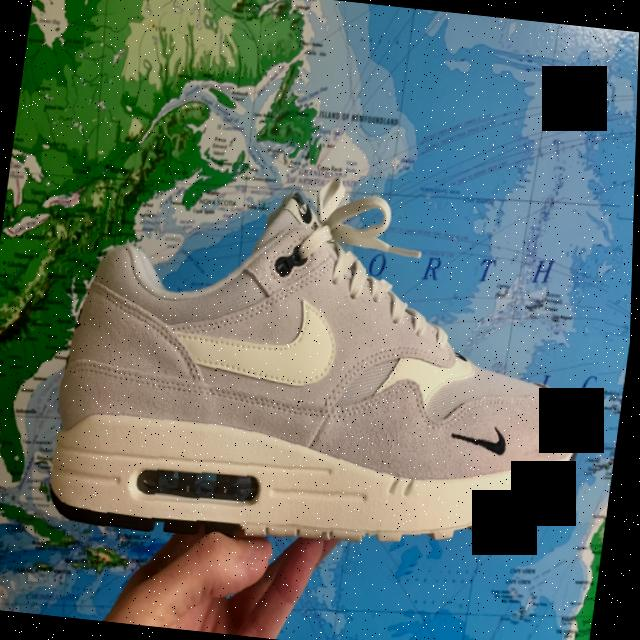shoe: (34, 146, 623, 595)
